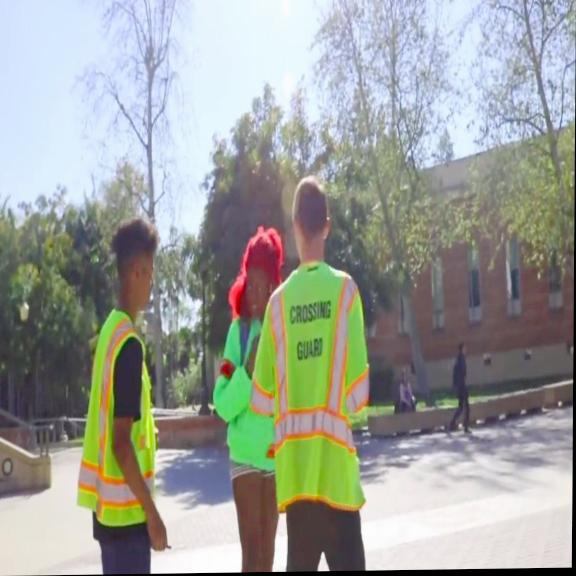safety_vest: (247, 261, 371, 513), (79, 305, 158, 526)
